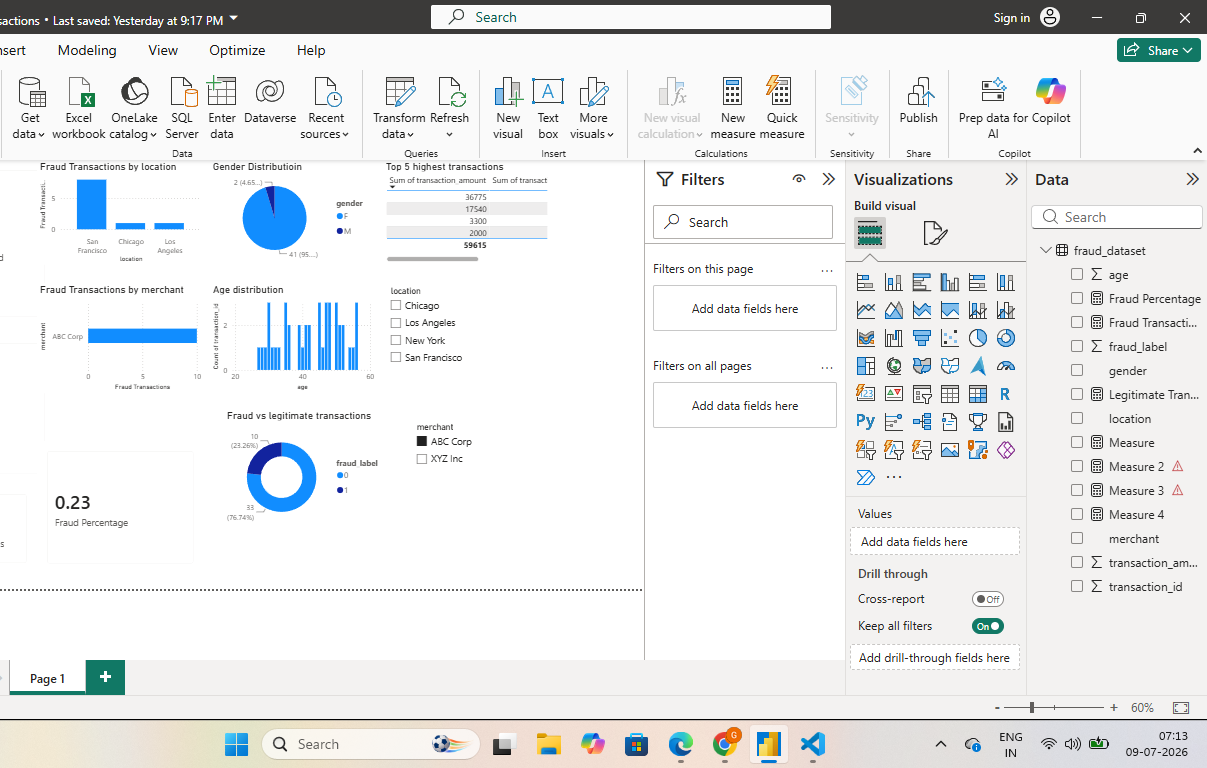

The dashboard page shown, as its layout file describes it:
{"tool":"powerbi","page":{"name":"Page 1","canvas":[1280,720],"ordinal":0},"visuals":[{"type":"cardVisual","fields":{"Data":["CountNonNull(fraud_dataset.transaction_id)"]},"box":[10,0,280,280],"z":0},{"type":"cardVisual","fields":{"Data":["fraud_dataset.Fraud Transactions"]},"box":[10.1,290.6,280.5,253.6],"z":1000},{"type":"clusteredColumnChart","fields":{"Category":["fraud_dataset.location"],"Y":["fraud_dataset.Fraud Transactions"]},"box":[260.4,0,280.5,176.4],"z":1001},{"type":"clusteredBarChart","fields":{"Category":["fraud_dataset.merchant"],"Y":["fraud_dataset.Fraud Transactions"]},"box":[260.4,206.6,280.5,184.8],"z":1002},{"type":"donutChart","title":"Fraud vs legitimate transactions","fields":{"Category":["fraud_dataset.fraud_label"],"Y":["CountNonNull(fraud_dataset.transaction_id)"]},"box":[574.5,418.3,280.5,210],"z":1003},{"type":"pieChart","title":"Gender Distributioin","fields":{"Category":["fraud_dataset.gender"],"Y":["CountNonNull(fraud_dataset.transaction_id)"]},"box":[551,0,281,176],"z":1004},{"type":"clusteredColumnChart","title":"Age distribution","fields":{"Category":["fraud_dataset.age"],"Y":["CountNonNull(fraud_dataset.transaction_id)"]},"box":[551,207,281,185],"z":1005},{"type":"tableEx","title":"Top 5 highest transactions","fields":{"Values":["Sum(fraud_dataset.transaction_amount)","Sum(fraud_dataset.transaction_id)","fraud_dataset.merchant","fraud_dataset.location"]},"box":[842,0,281,176],"z":1006},{"type":"slicer","fields":{"Values":["fraud_dataset.location"]},"box":[841.6,206.6,280.5,184.8],"z":1007},{"type":"slicer","fields":{"Values":["fraud_dataset.merchant"]},"box":[885.2,435.1,236.9,176.4],"z":1008},{"type":"cardVisual","fields":{"Data":["fraud_dataset.Legitimate Transactions"]},"box":[10,545,250,150],"z":1009},{"type":"cardVisual","fields":{"Data":["fraud_dataset.Fraud Percentage"]},"box":[260.4,472,280.5,223.4],"z":1010}]}

Visuals, with their boxes on the page's 1280x720 design canvas (x1, y1, x2, y2). These are canvas units, not pixel positions in the 1207x768 screenshot, which may show the page scaled, cropped or inside an application window:
cardVisual - CountNonNull(fraud_dataset.transaction_id): x1=10 y1=0 x2=290 y2=280
cardVisual - fraud_dataset.Fraud Transactions: x1=10 y1=291 x2=291 y2=544
clusteredColumnChart - fraud_dataset.location x fraud_dataset.Fraud Transactions: x1=260 y1=0 x2=541 y2=176
clusteredBarChart - fraud_dataset.merchant x fraud_dataset.Fraud Transactions: x1=260 y1=207 x2=541 y2=391
"Fraud vs legitimate transactions" donutChart: x1=574 y1=418 x2=855 y2=628
"Gender Distributioin" pieChart: x1=551 y1=0 x2=832 y2=176
"Age distribution" clusteredColumnChart: x1=551 y1=207 x2=832 y2=392
"Top 5 highest transactions" tableEx: x1=842 y1=0 x2=1123 y2=176
slicer - fraud_dataset.location: x1=842 y1=207 x2=1122 y2=391
slicer - fraud_dataset.merchant: x1=885 y1=435 x2=1122 y2=612
cardVisual - fraud_dataset.Legitimate Transactions: x1=10 y1=545 x2=260 y2=695
cardVisual - fraud_dataset.Fraud Percentage: x1=260 y1=472 x2=541 y2=695
